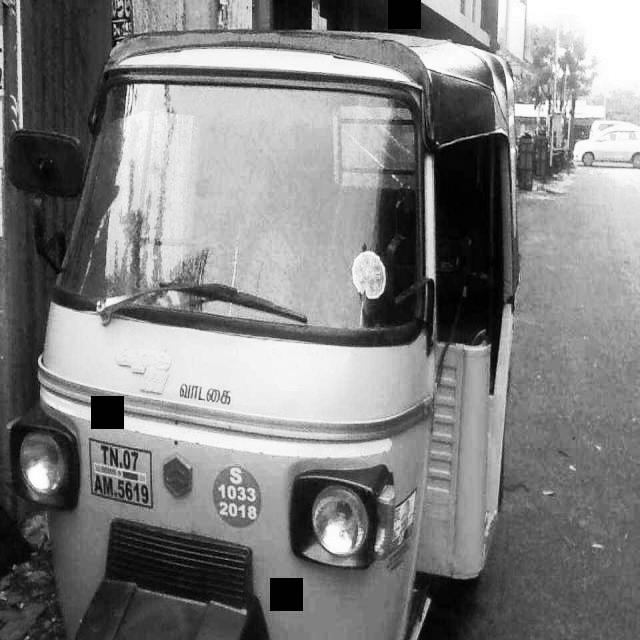Auto-Rickshaw: (9, 10, 525, 630)
